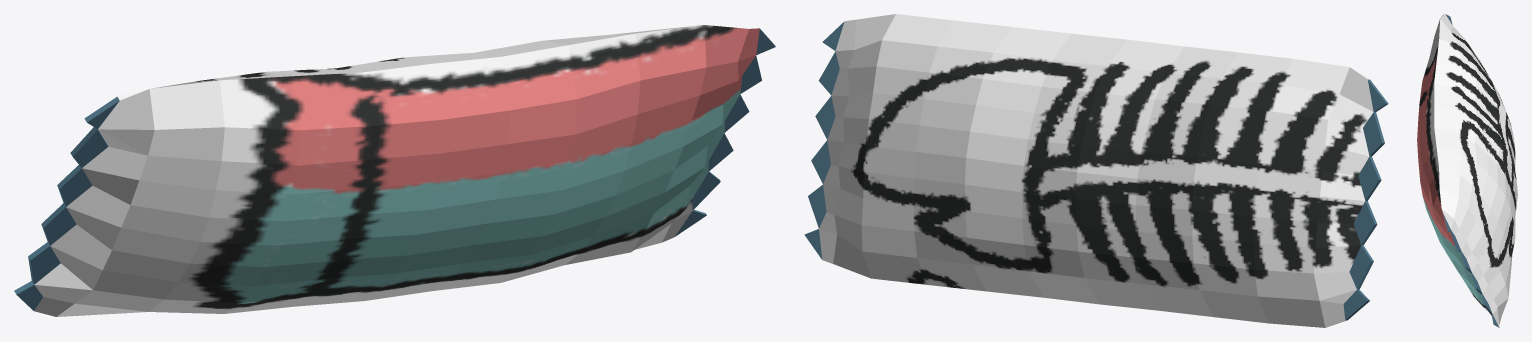
File: Snack.FrootTooter.fbx
3 views of the same model, side by side, from view 1: azimuth 30°, elevation 25°; view 2: azimuth 150°, elevation 25°; view 3: azimuth 270°, elevation 25° (orthographic). The views are drawn at different scales.
Visible parts, largest first — view 1: Snack.FrootTooter; view 2: Snack.FrootTooter; view 3: Snack.FrootTooter.
Part boxes in pixels (<box>): Snack.FrootTooter: <box>14,25,775,316</box>; Snack.FrootTooter: <box>804,14,1388,327</box>; Snack.FrootTooter: <box>1417,14,1517,327</box>.
Bounding box in the file's own units: 105 × 47.6 × 25.6.
